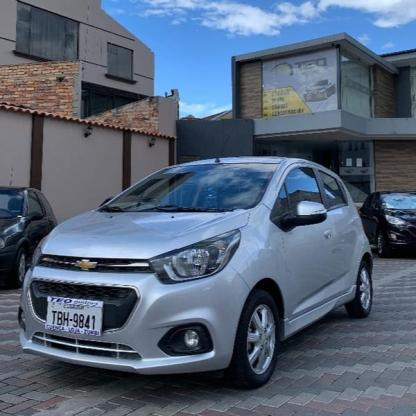Placa: (46, 298, 101, 336)
